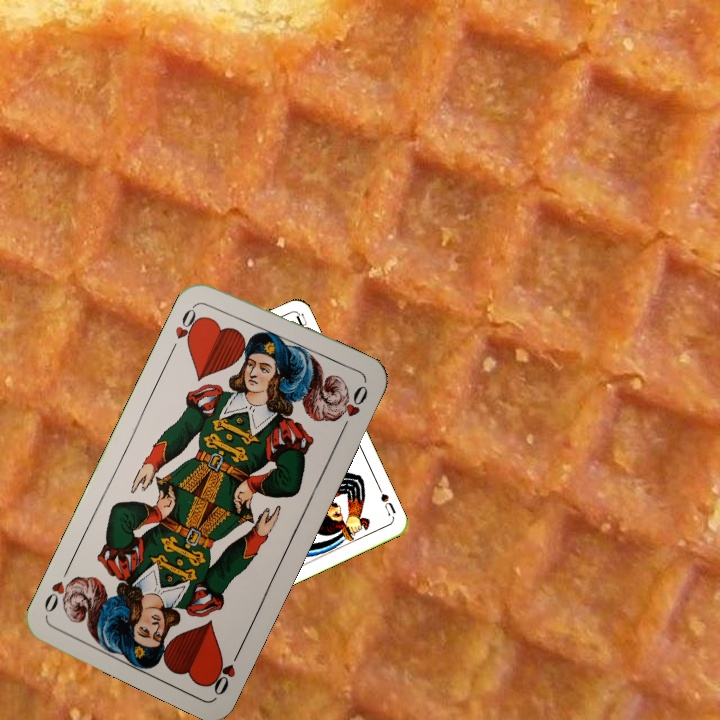HO: (205, 643, 245, 698), (166, 300, 205, 355)
SU: (374, 483, 399, 518)
